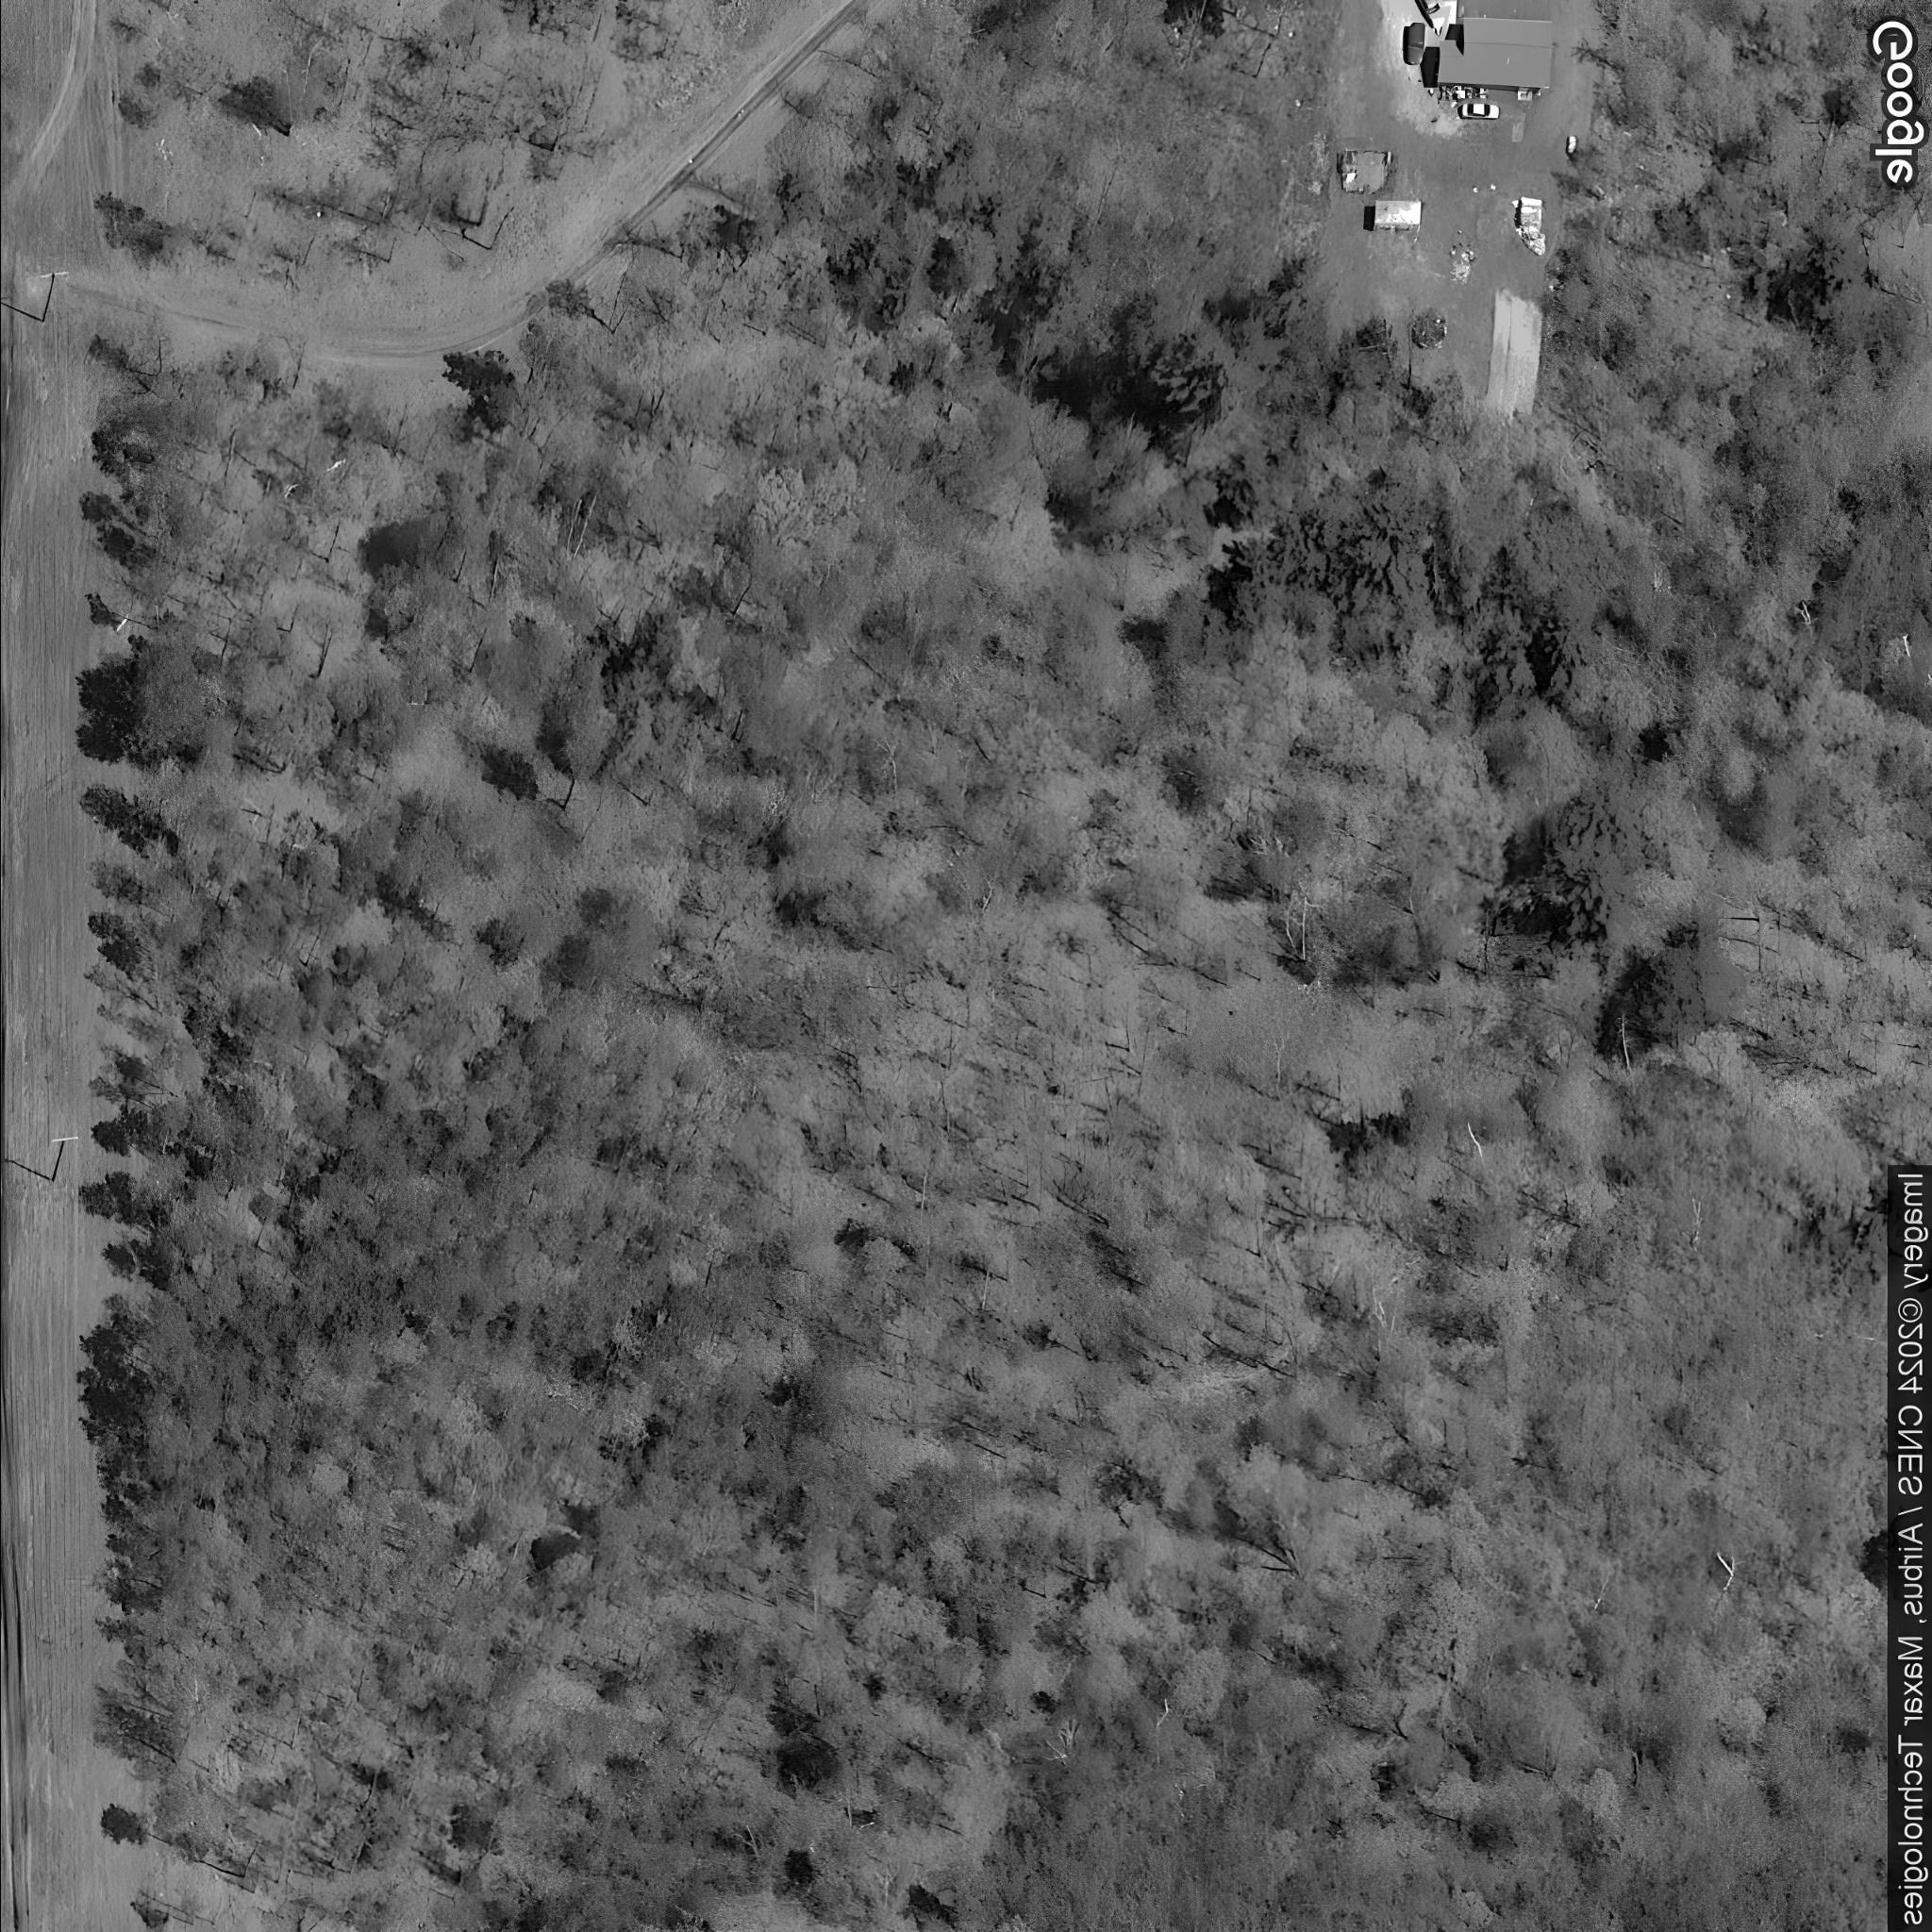House: (1435, 14, 1553, 90)
Propane: (1564, 133, 1578, 166)
